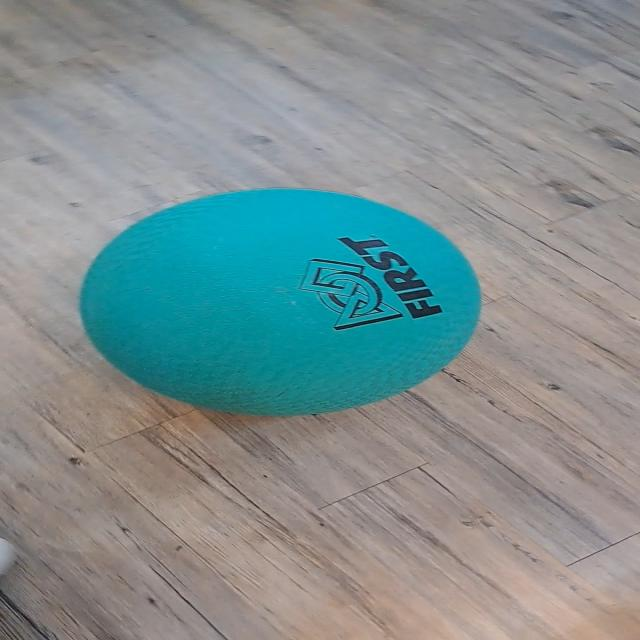ALGAE: (76, 186, 482, 418)
